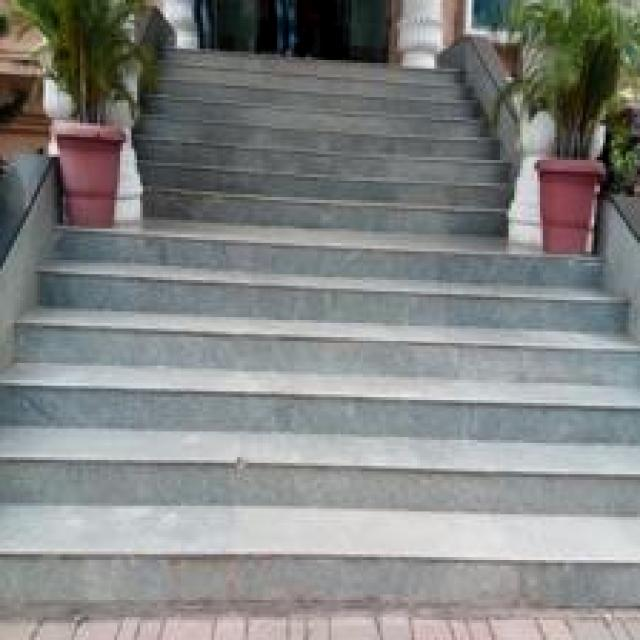upstair: (7, 295, 621, 624)
